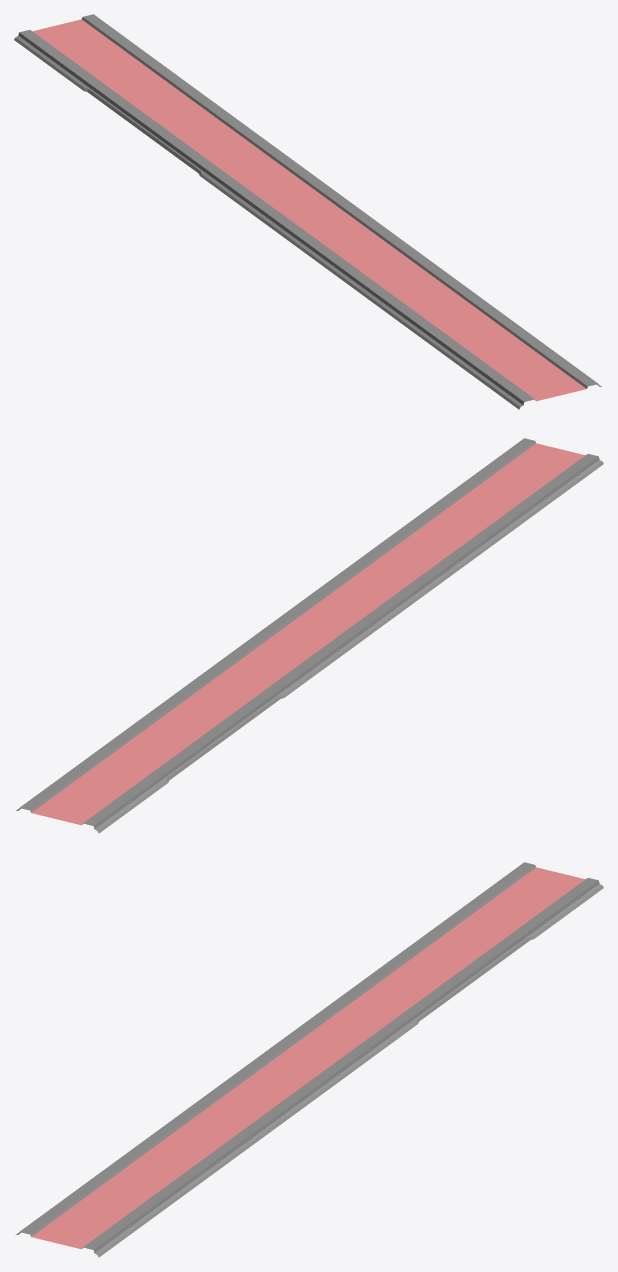
File: S_Envi_Umeda_Ground_01_B.gltf
The picture shows the model from 3 angles, top to bottom: view 1: azimuth 30°, elevation 25°; view 2: azimuth 150°, elevation 25°; view 3: azimuth 330°, elevation 25°; orthographic projection.
Visible parts, largest first — view 1: S_Envi_Umeda_Ground_01_B; view 2: S_Envi_Umeda_Ground_01_B; view 3: S_Envi_Umeda_Ground_01_B.
Boxes of the visible parts, bbox=[...] form: S_Envi_Umeda_Ground_01_B: bbox=[14, 14, 601, 409]; S_Envi_Umeda_Ground_01_B: bbox=[16, 438, 603, 833]; S_Envi_Umeda_Ground_01_B: bbox=[15, 862, 603, 1257].
Size of the model in its own units: 0.388 by 0.028 by 4.
